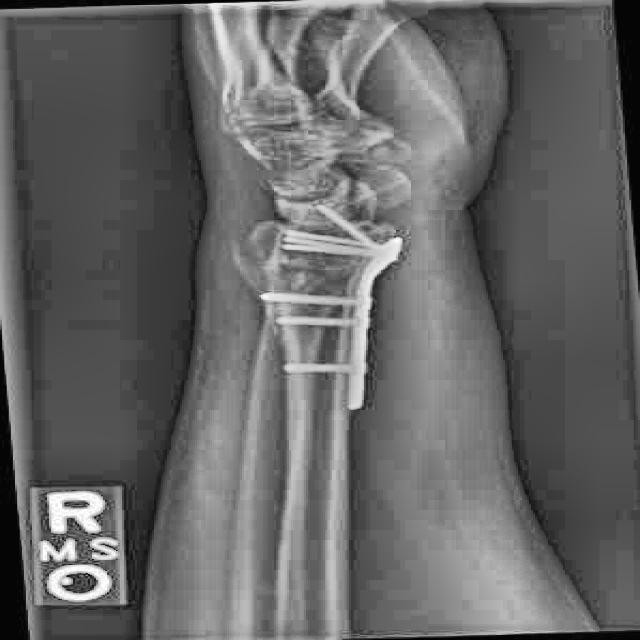fingers positive: (191, 223, 463, 304)
